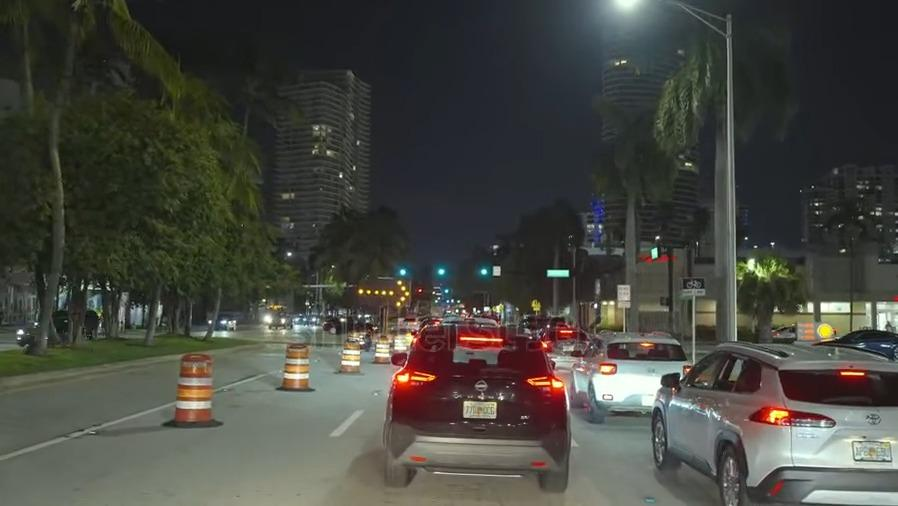arrow traffic sign: (353, 275, 411, 313)
car: (657, 339, 898, 506), (378, 325, 575, 493), (566, 328, 689, 420), (813, 328, 898, 357), (539, 326, 590, 374), (16, 316, 73, 347), (320, 315, 379, 336), (66, 307, 101, 337), (203, 311, 239, 332), (265, 311, 294, 330), (397, 313, 424, 329)
cone: (174, 351, 213, 422), (281, 339, 310, 391), (338, 337, 362, 372), (372, 331, 393, 365), (391, 333, 408, 355)
traffic light: (432, 261, 451, 282), (477, 263, 491, 285), (394, 264, 411, 279)
wheel: (710, 440, 751, 506), (650, 403, 670, 472)
